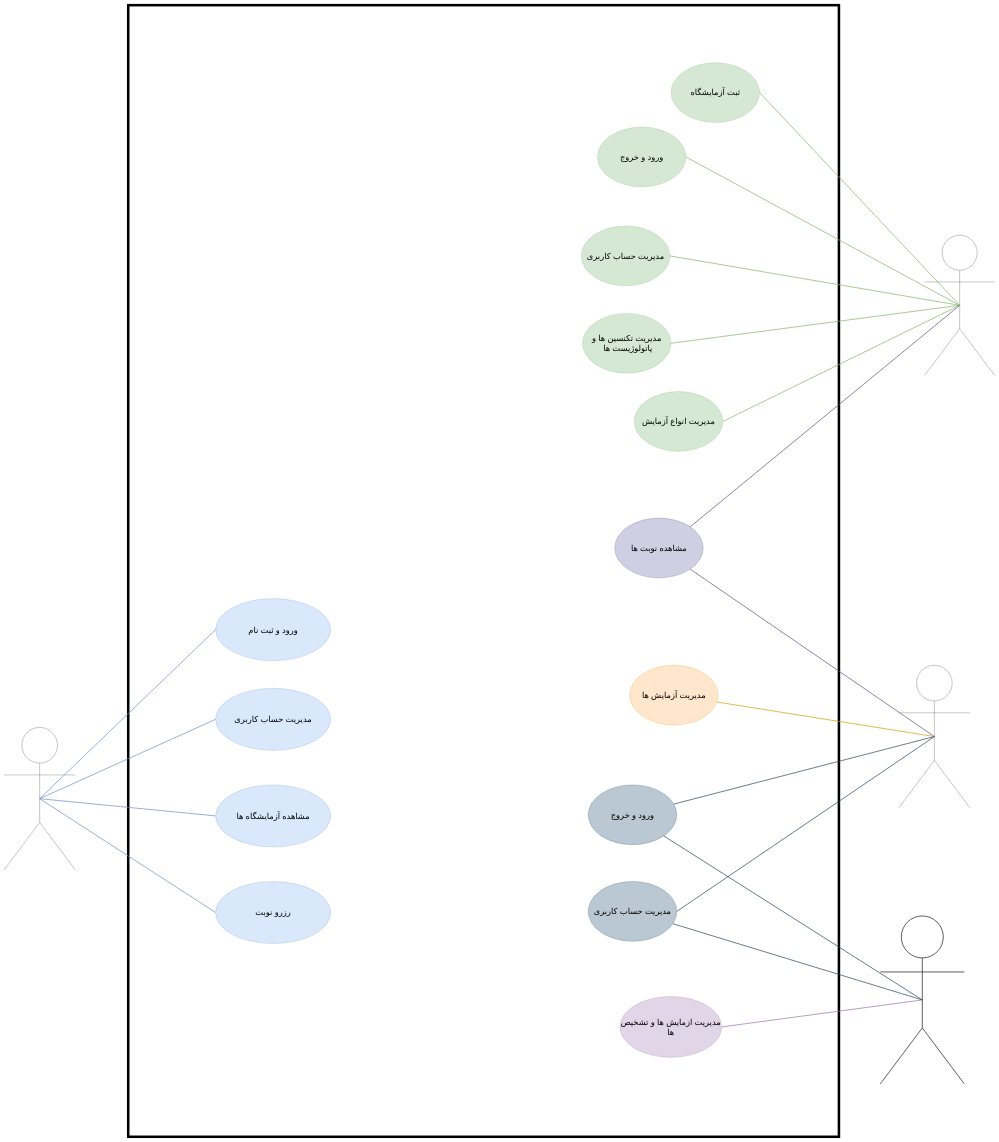
The diagram is 999 pixels wide and 1142 high, and some of its shapes have lost their labels. The centre of each missing label's shape, as x and y in pixels:
بیمار: the point at 39,798
تکنسین: the point at 934,736
مدیر آزمایشگاه: the point at 959,305
پاتولوژیست: the point at 922,1000
